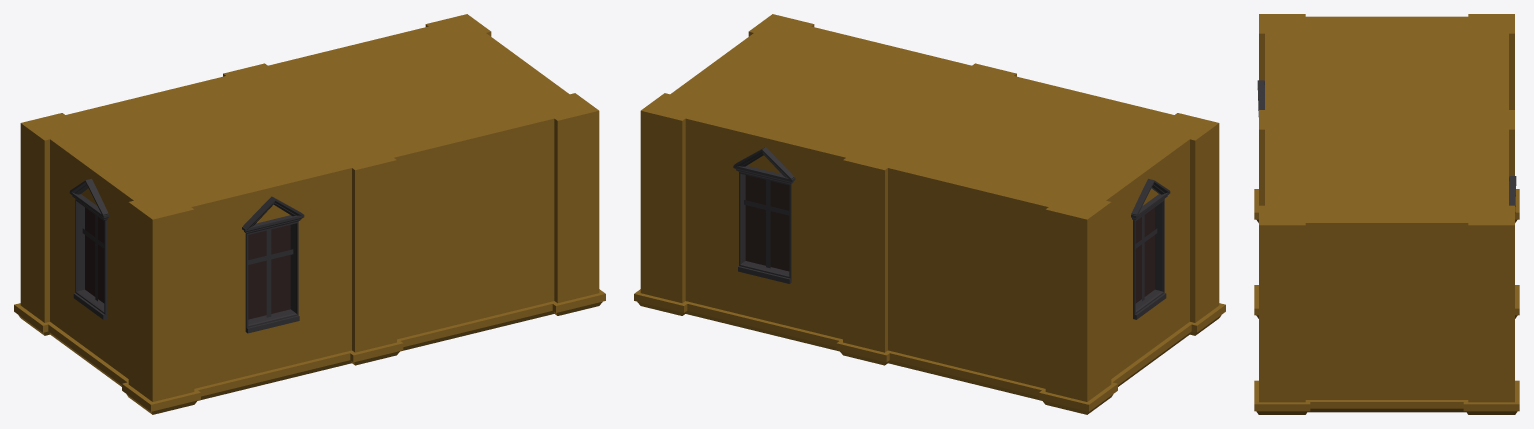
The model's file is bigrect_mid_2.glb.
The picture shows the model from 3 angles, left to right: view 1: azimuth 30°, elevation 25°; view 2: azimuth 150°, elevation 25°; view 3: azimuth 270°, elevation 25°; orthographic projection. The views are drawn at different scales.
Visible parts, largest first — view 1: bigrect_mid_2; view 2: bigrect_mid_2; view 3: bigrect_mid_2.
Boxes of the visible parts, box(x1,y1,x2,y2) form: bigrect_mid_2: box(14, 14, 605, 414); bigrect_mid_2: box(634, 14, 1225, 414); bigrect_mid_2: box(1254, 14, 1519, 414).
Bounding box in the file's own units: 10.44 × 4.28 × 5.44.
